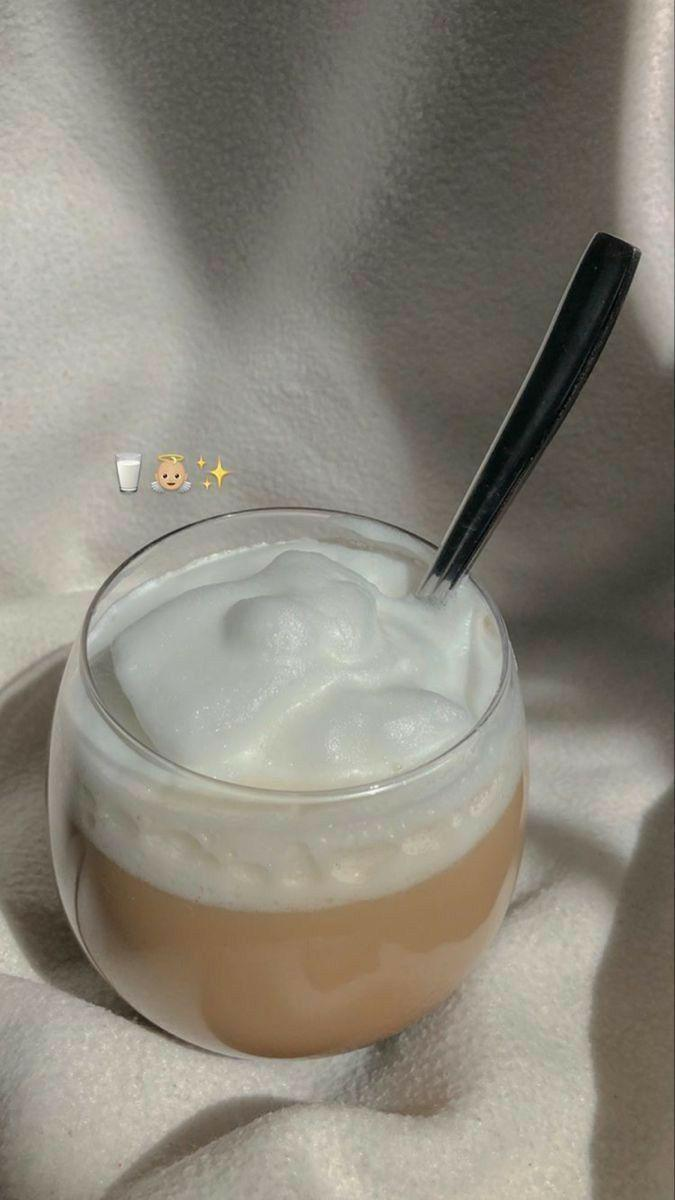glass-normal: (46, 504, 531, 1067)
